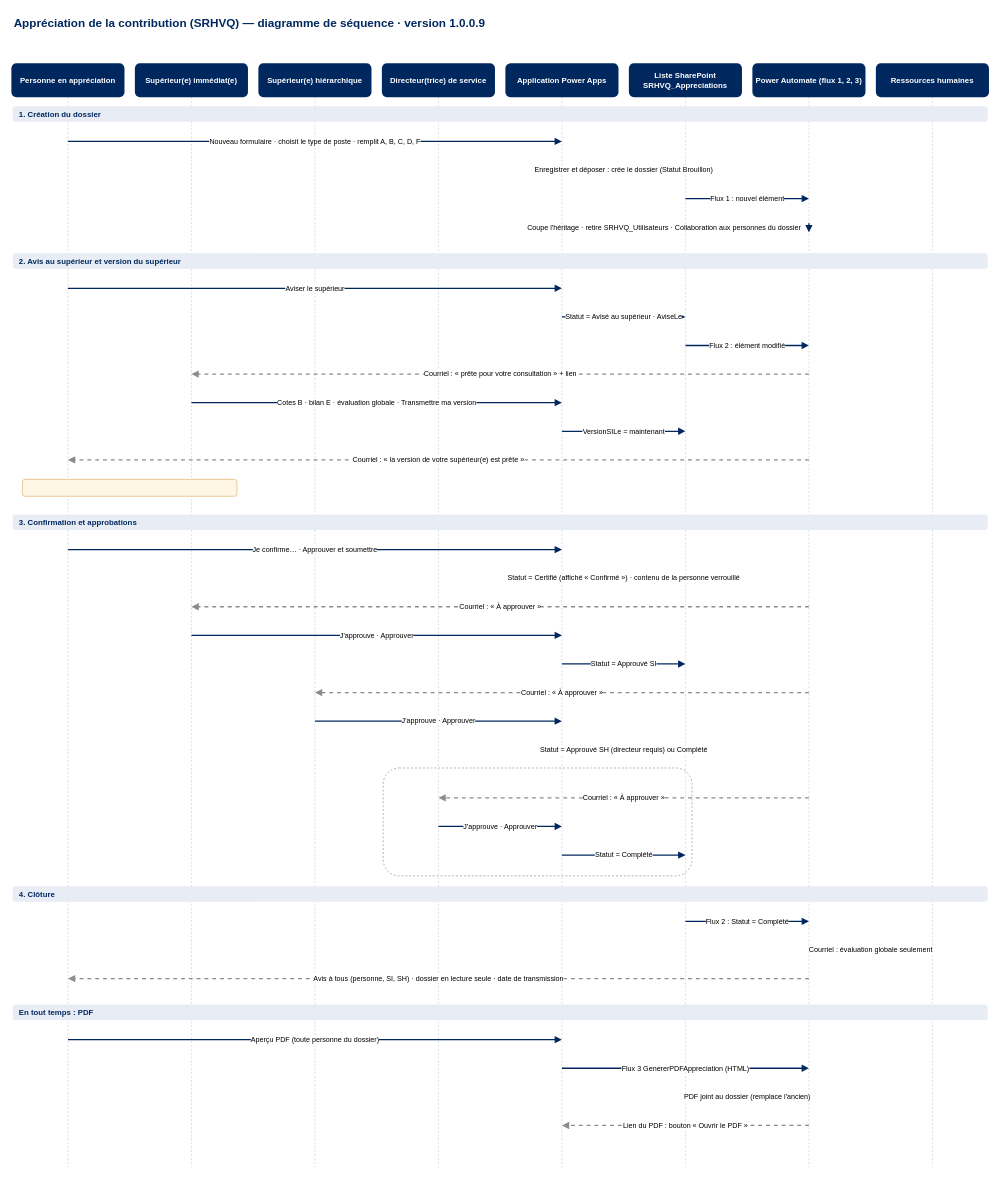
The diagram is 1000 pixels wide and 1179 high, and some of its shapes have lost their labels. Here are the shapes that lost their labels. From the top down, the centre of each, then its label:
At point 129,487: "Rencontre d'appréciation (hors application)".
At point 537,821: "alt : Si un directeur ou une directrice de service est requis(e)".
